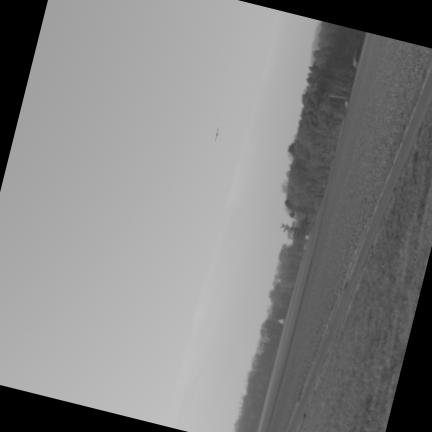Shahed: (214, 125, 219, 141)
